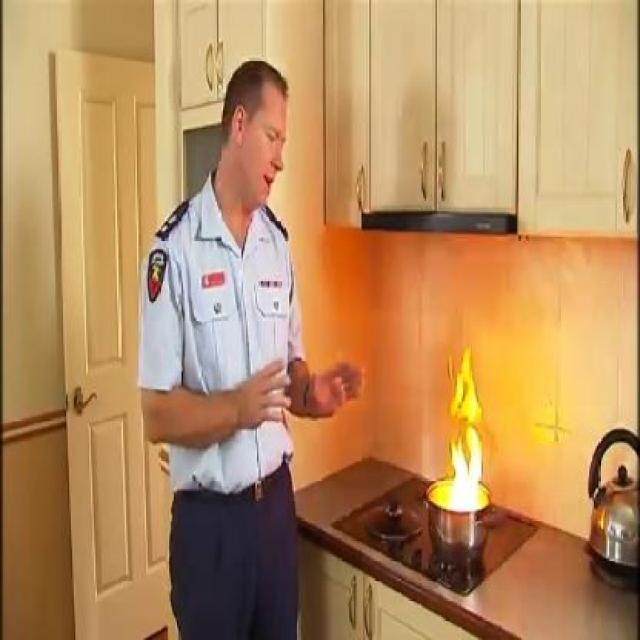fire: (428, 346, 490, 511)
